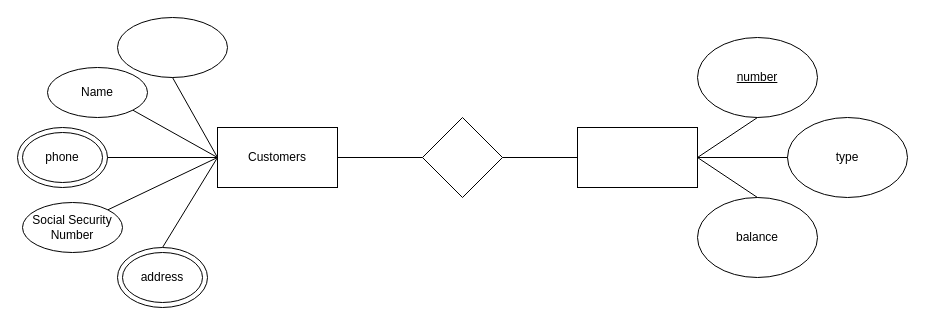
Image size: 925x325. Some labels were removed from this diagram. The shapes that lost their labels are listed below. From the top down, each one's box as (x1, y1, x2, y2) in pixels, then its label:
(116, 16, 228, 78): custId
(422, 116, 502, 198): own
(576, 126, 698, 188): Accounts
